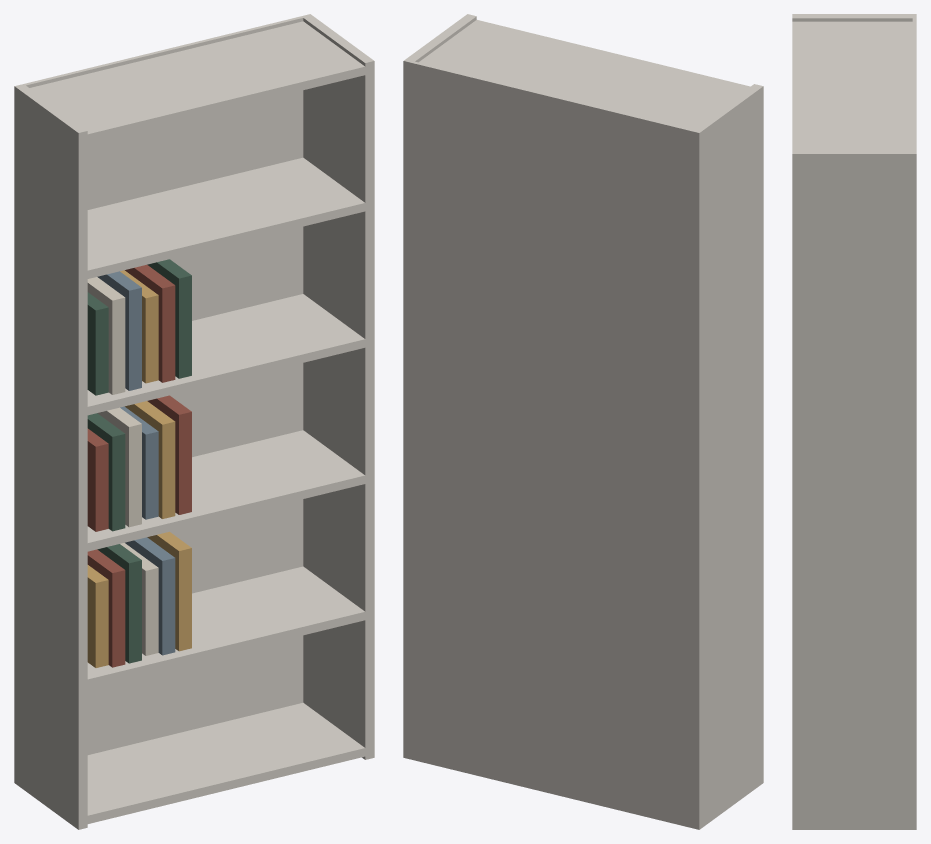
3 renders of one model, left to right at view 1: azimuth 30°, elevation 25°; view 2: azimuth 150°, elevation 25°; view 3: azimuth 270°, elevation 25°, orthographic. The views are drawn at different scales.
Parts seen in each view (by area): view 1: p04; view 2: p04; view 3: p04.
Boxes of the visible parts, <box> form: p04: <box>14,14,374,829</box>; p04: <box>403,14,763,829</box>; p04: <box>792,14,916,829</box>.
Size of the model in its own units: 0.8 by 1.8 by 0.3.
